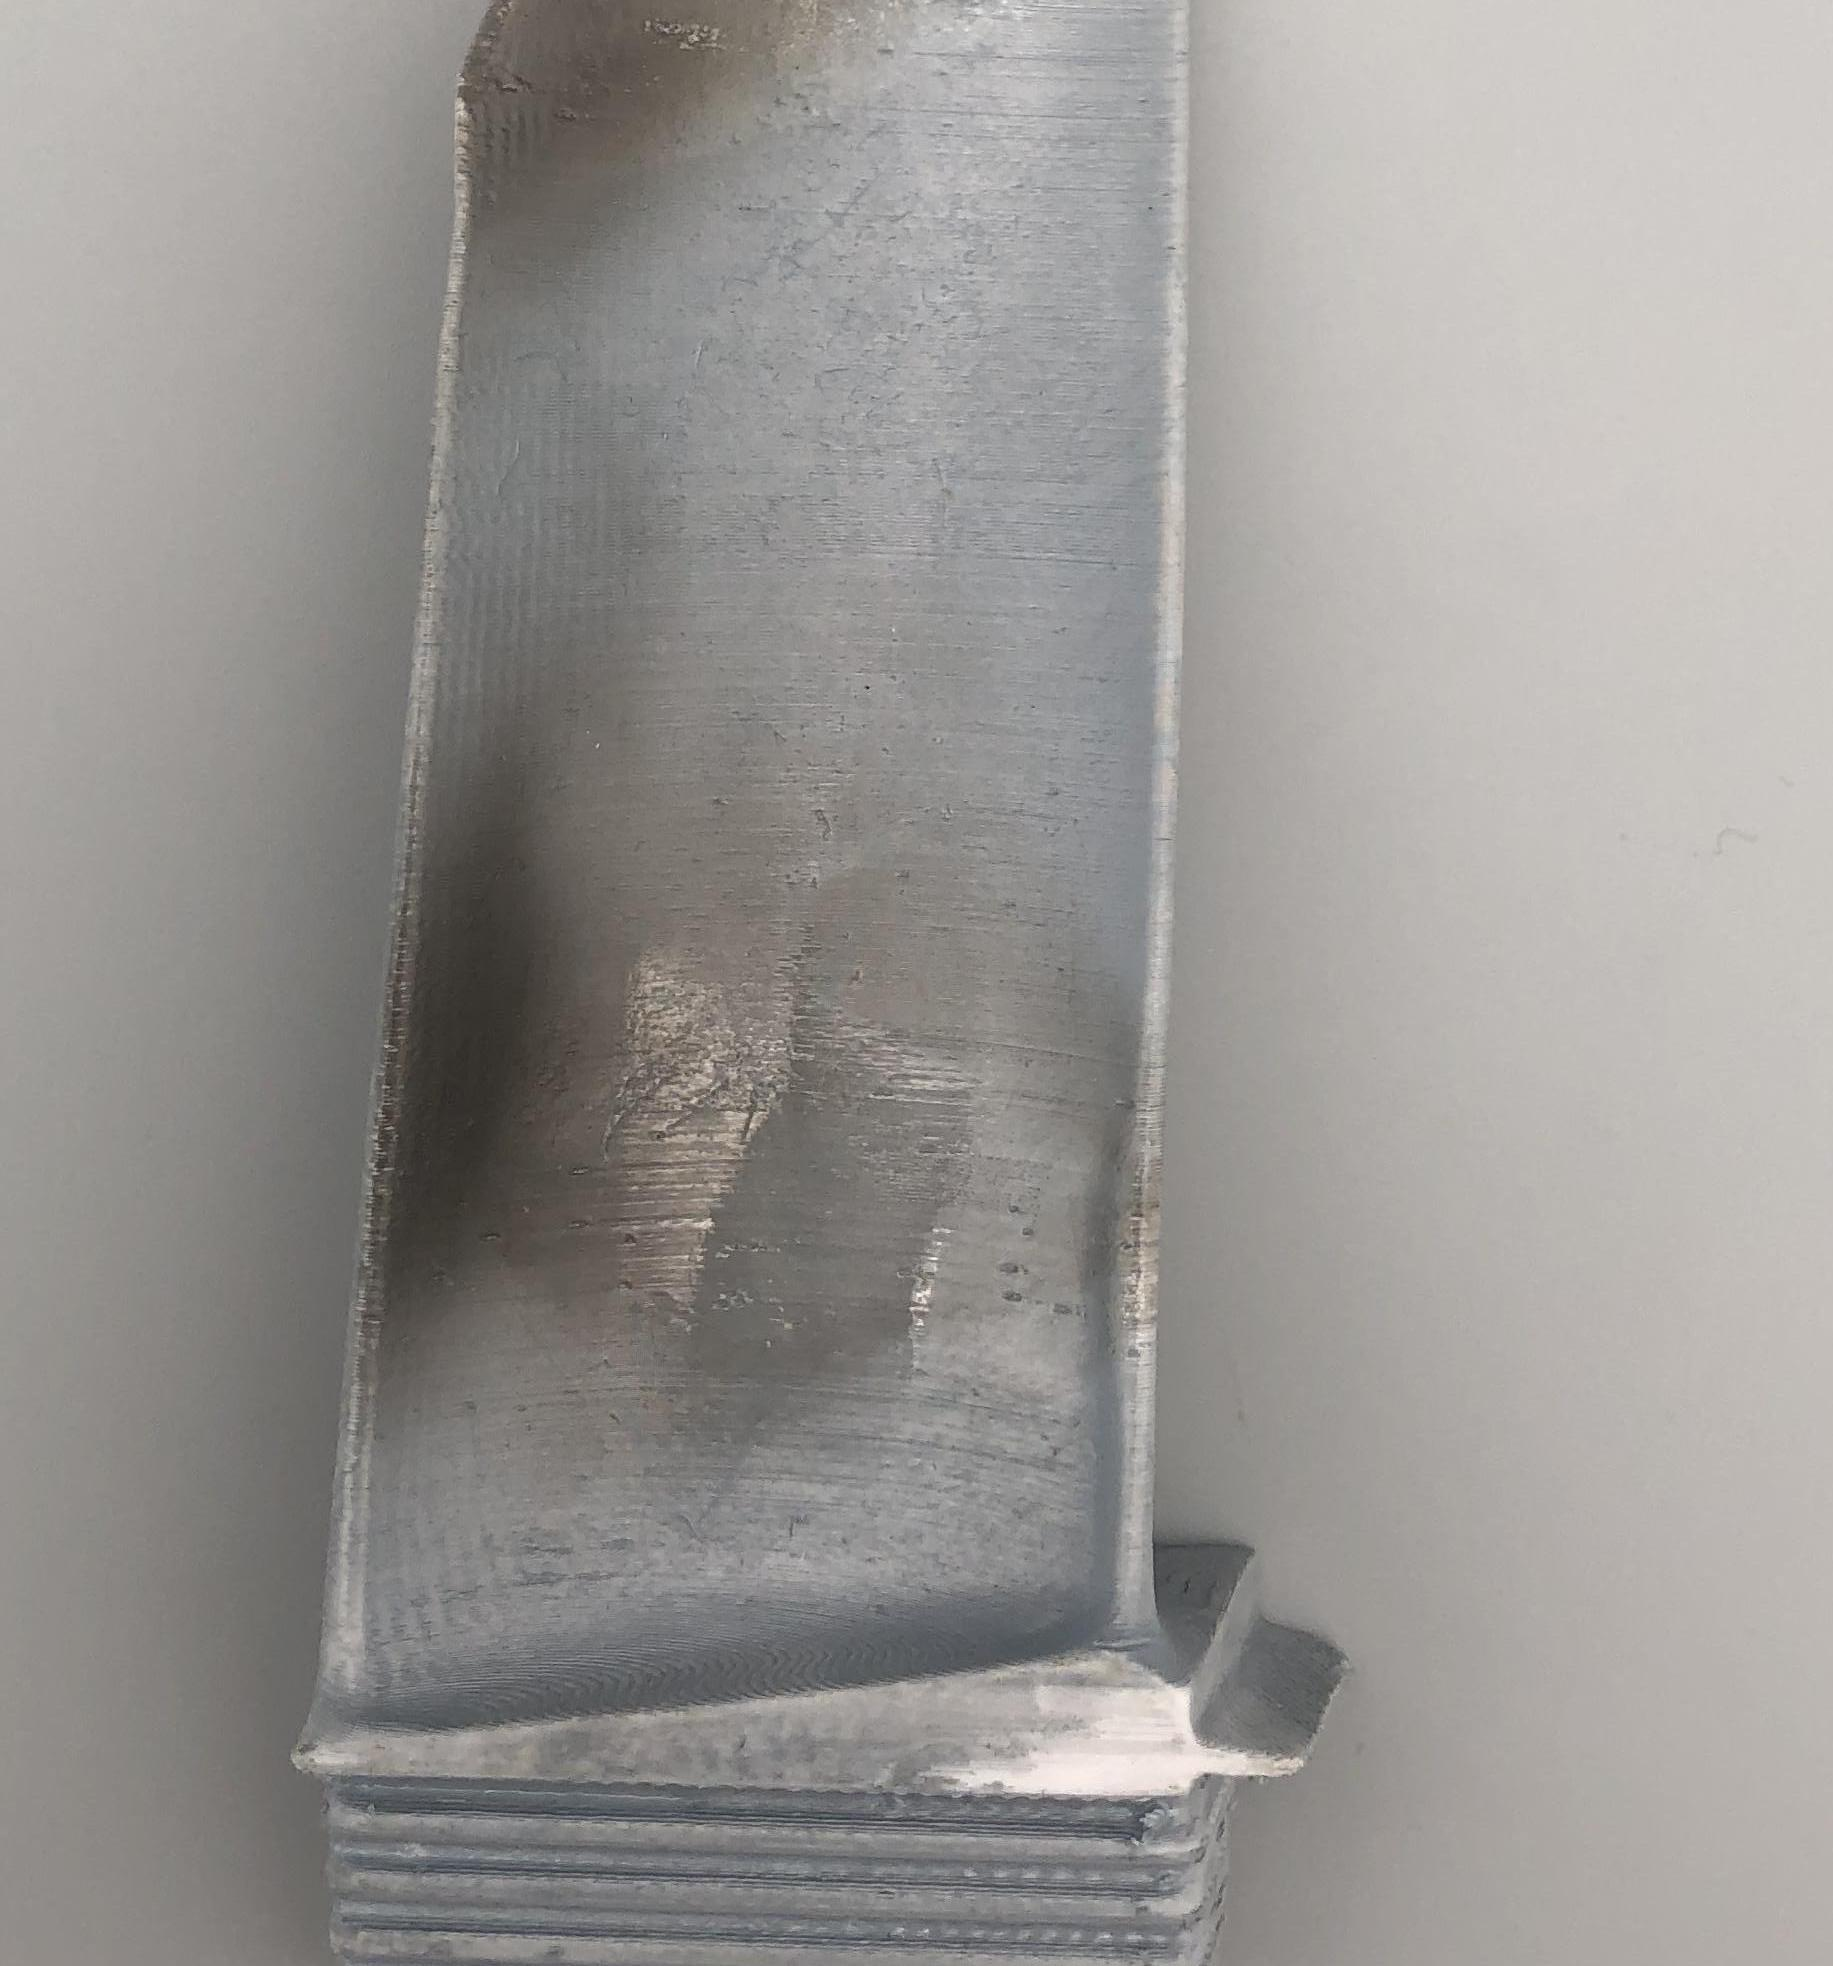ablation: (408, 822, 999, 1284), (479, 9, 774, 157)
